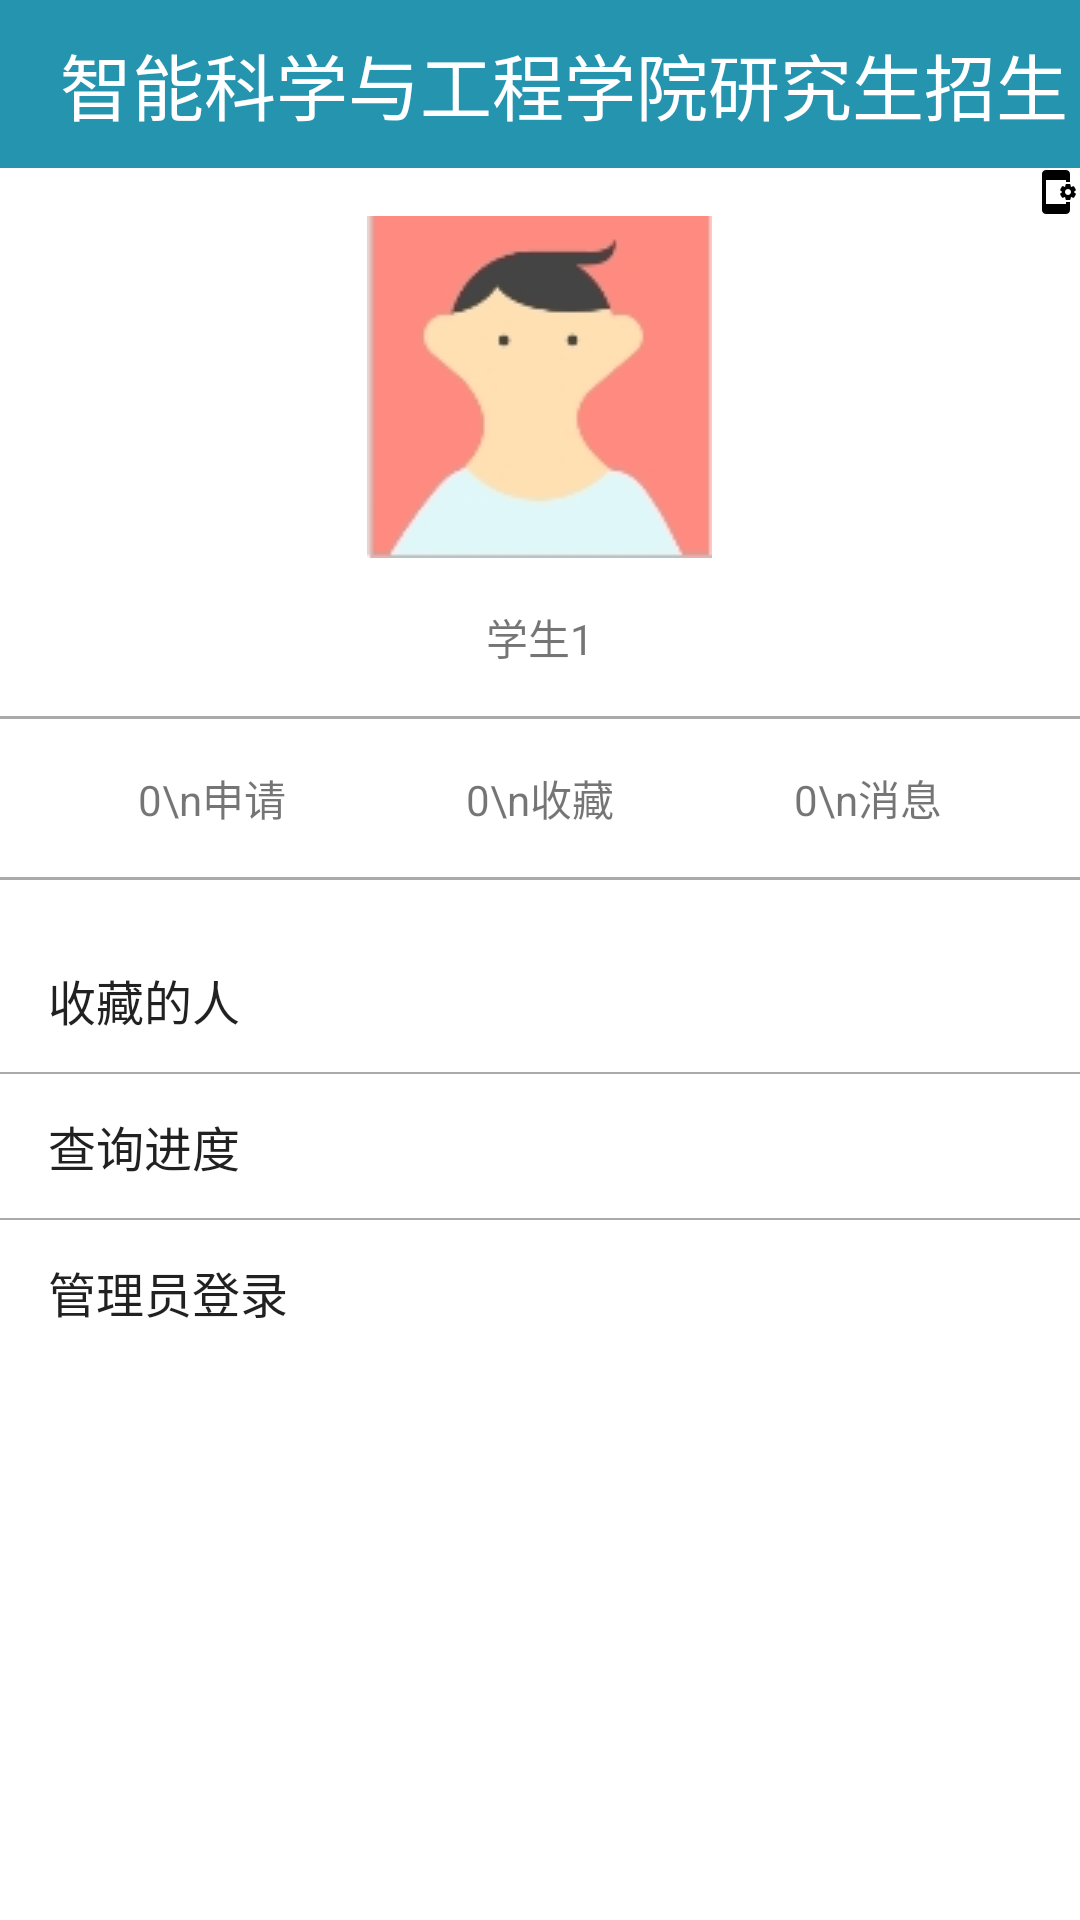

Where icons sit on this 1080x1920 app screen, as [left=x1, top=y1, right=x2, bottom=y2]:
settings: [left=1042, top=170, right=1076, bottom=214]
